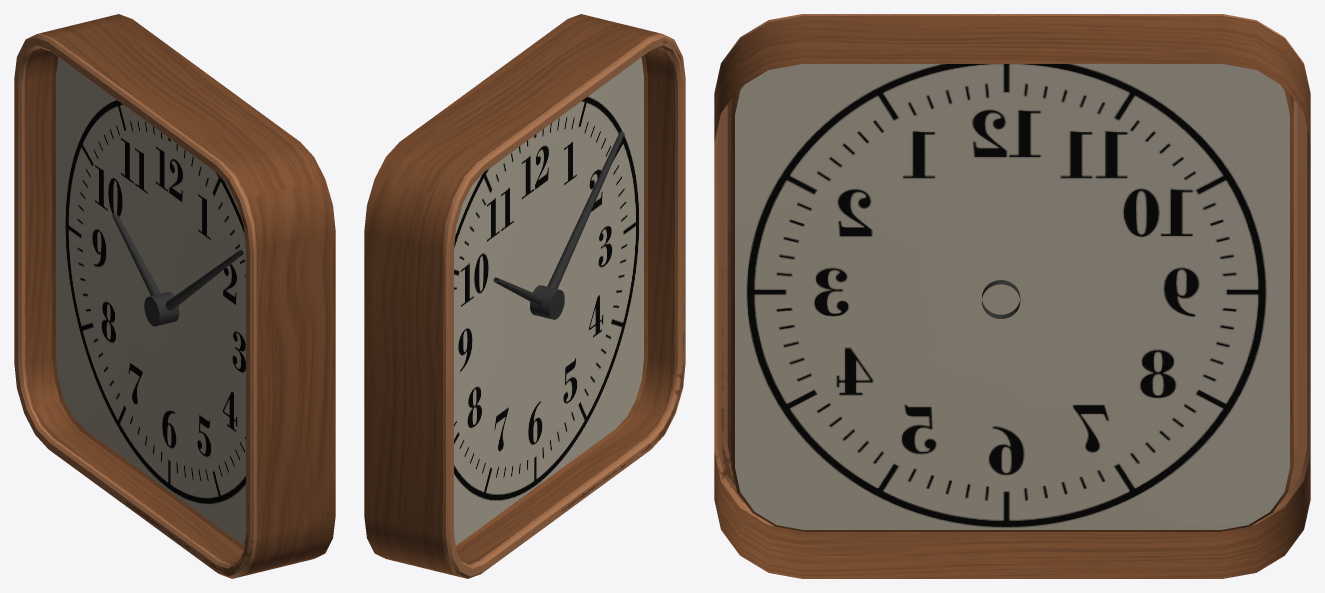
The model's file is M_Furniture_010.fbx.
The picture shows the model from 3 angles, left to right: view 1: azimuth 30°, elevation 25°; view 2: azimuth 150°, elevation 25°; view 3: azimuth 270°, elevation 25°; orthographic projection. The views are drawn at different scales.
Parts seen in each view (by area): view 1: M_Furniture_010; view 2: M_Furniture_010; view 3: M_Furniture_010.
Boxes of the visible parts, x1,y1,x2,y2 form: M_Furniture_010: (14, 14, 335, 578); M_Furniture_010: (364, 14, 685, 578); M_Furniture_010: (714, 14, 1310, 578).
Bounding box in the file's own units: 9 × 42.06 × 44.15.
Materials: 1 (1 with a texture image).
